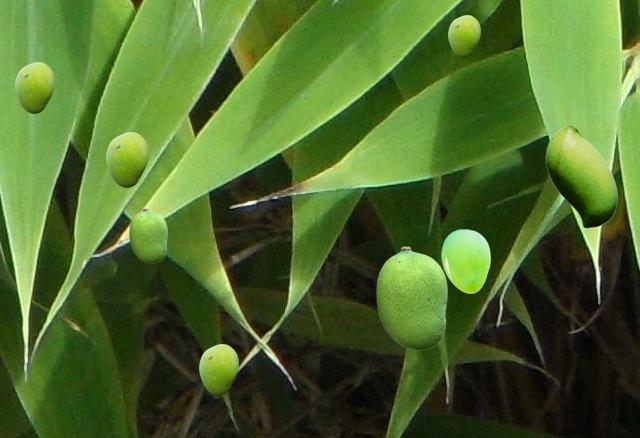green_mango: (545, 124, 616, 227), (376, 246, 446, 349), (441, 229, 489, 292), (106, 132, 147, 186), (129, 208, 166, 262), (199, 344, 237, 394), (15, 62, 53, 112), (448, 15, 479, 56)
